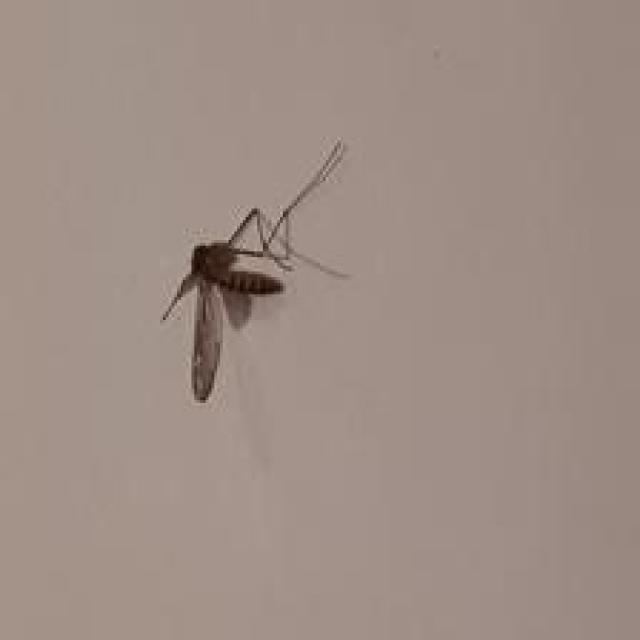Culex: (160, 137, 351, 403)
